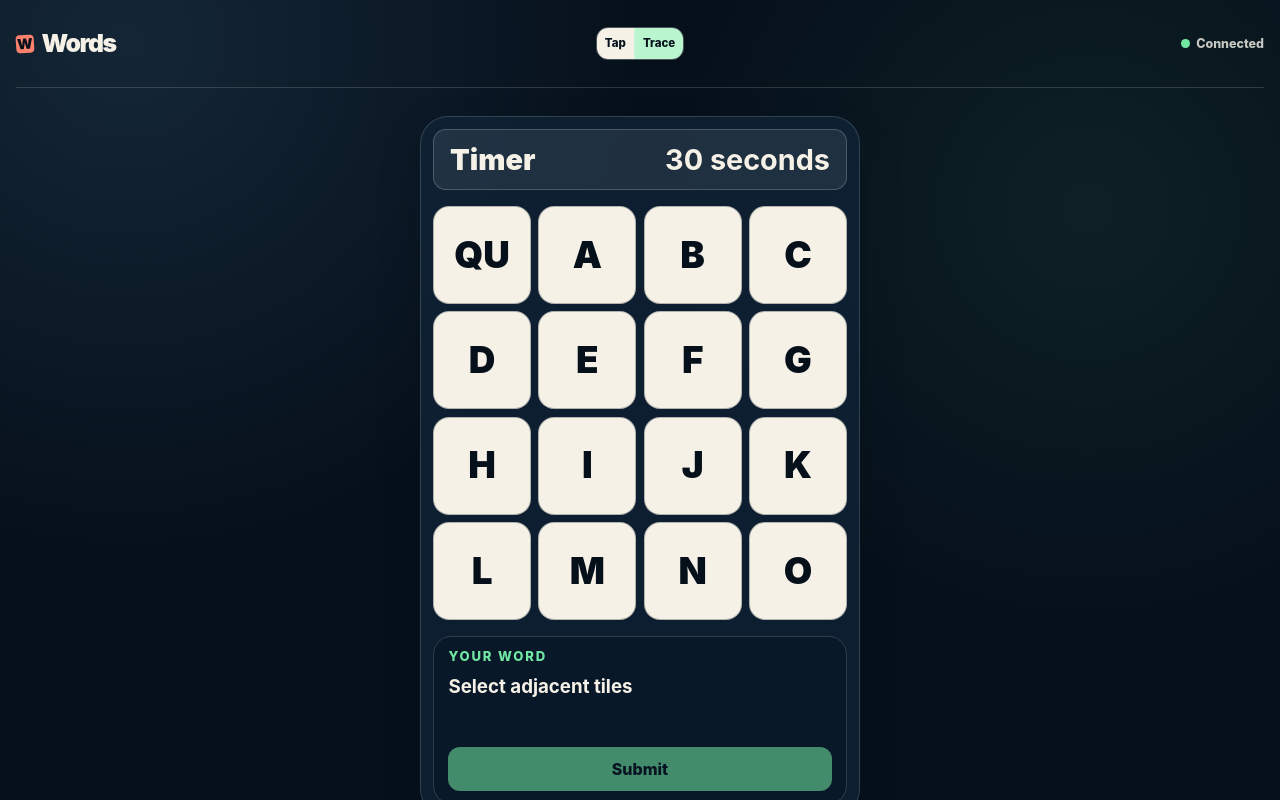
Stage 4B display and player room routes › lets a current participant build and privately submit an adjacent tile path
Click the button "Tap" at (615, 44), box top-left (597, 28), bottom-right (634, 59)
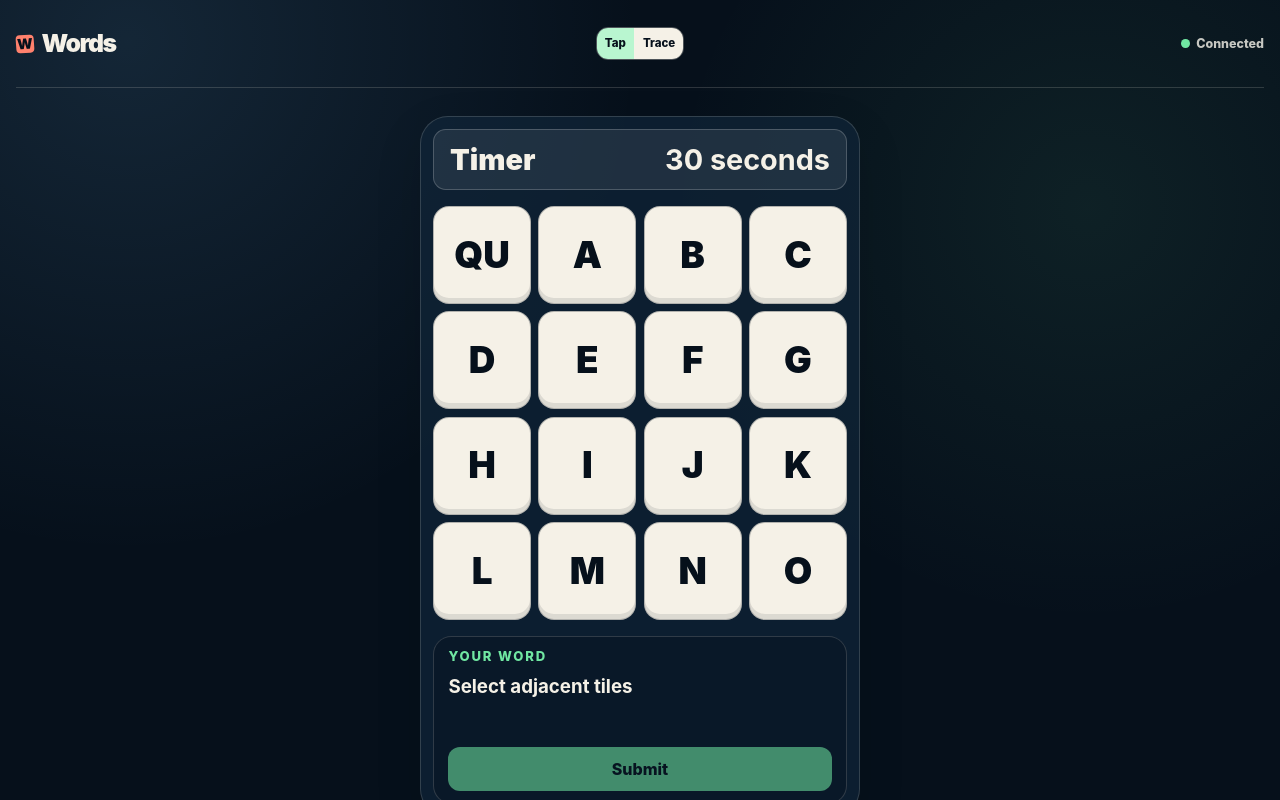
Click the button with aria-label "QU, tile 1" at (482, 255), box top-left (433, 206), bottom-right (531, 304)
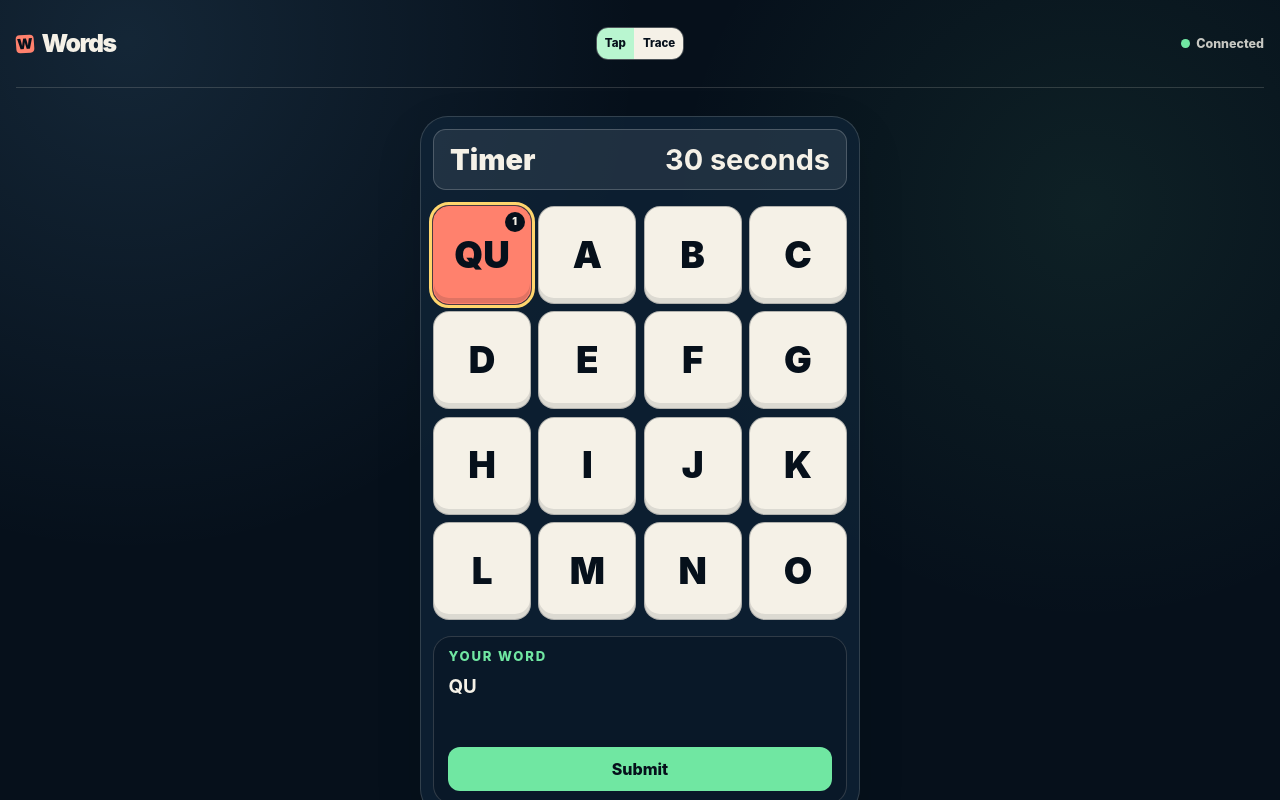
Click the button named "A, tile 2" at (587, 255), box top-left (538, 206), bottom-right (636, 304)
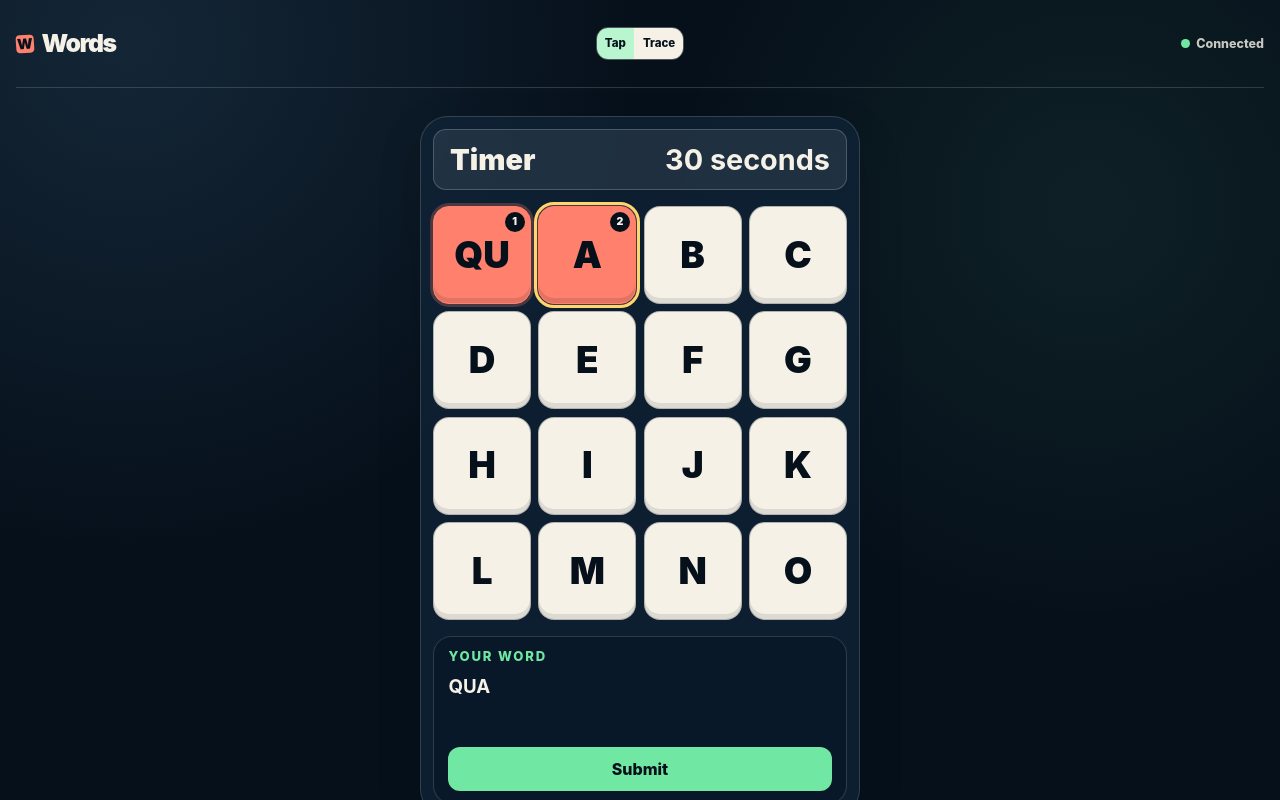
Click the button named "B, tile 3" at (693, 255), box top-left (644, 206), bottom-right (742, 304)
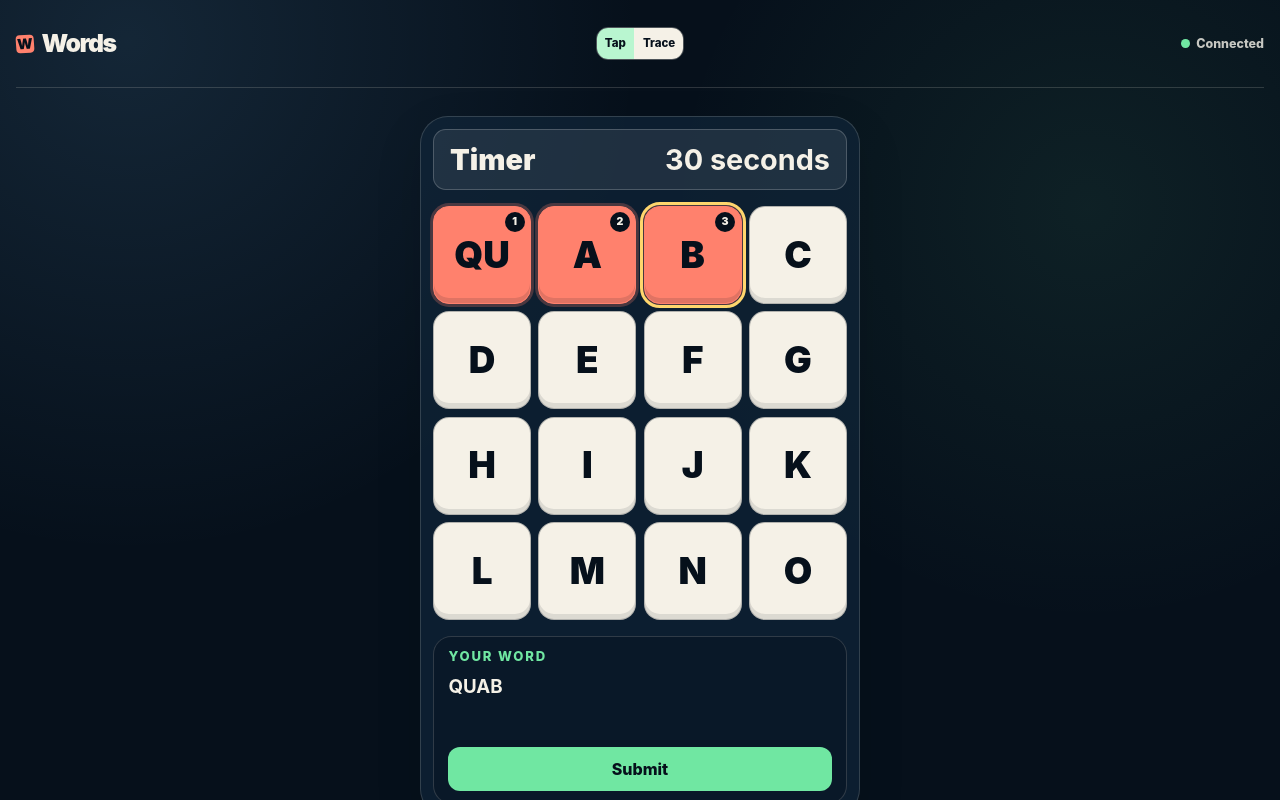
Expected: the heading "QUAB" is shown, top-left (448, 675), bottom-right (503, 698)
Click the button "Submit" at (640, 769), box top-left (448, 747), bottom-right (832, 791)
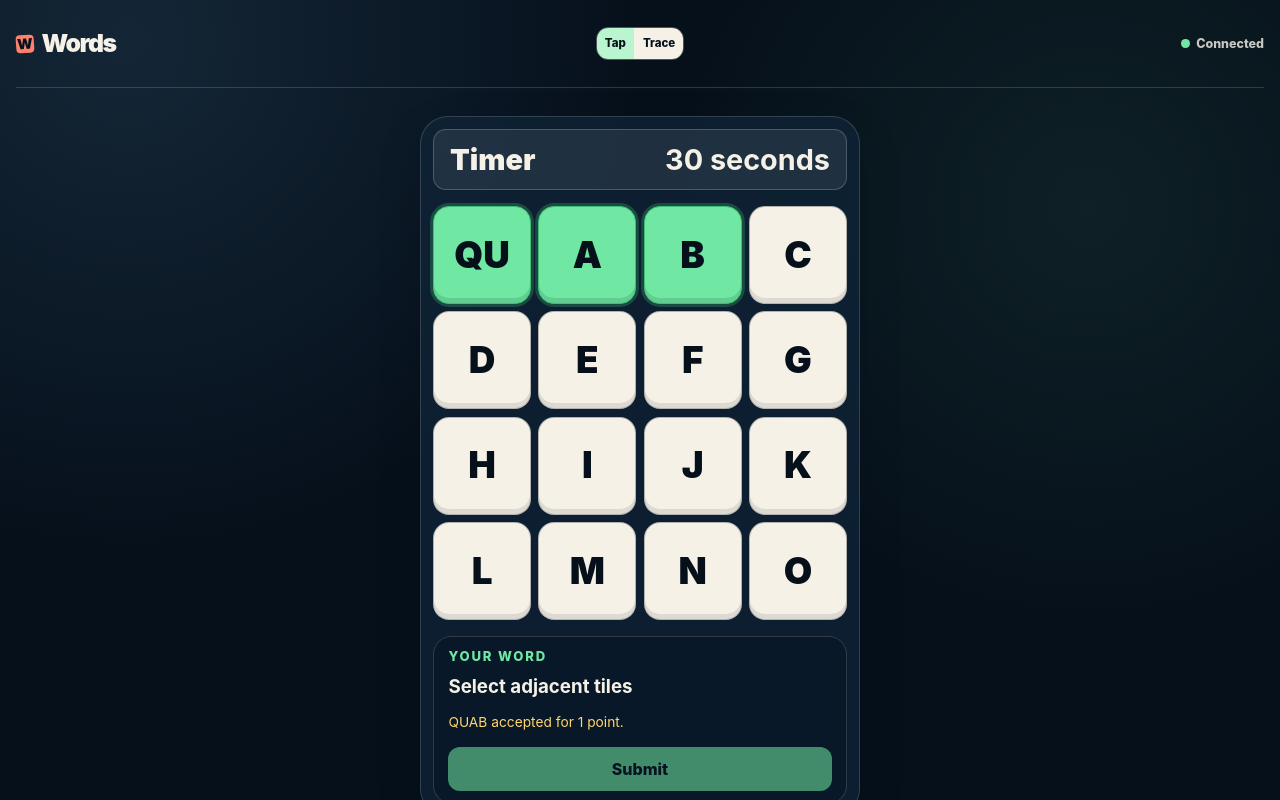
Expected: the text "QUAB accepted for 1 point." is shown, top-left (448, 714), bottom-right (624, 730)
